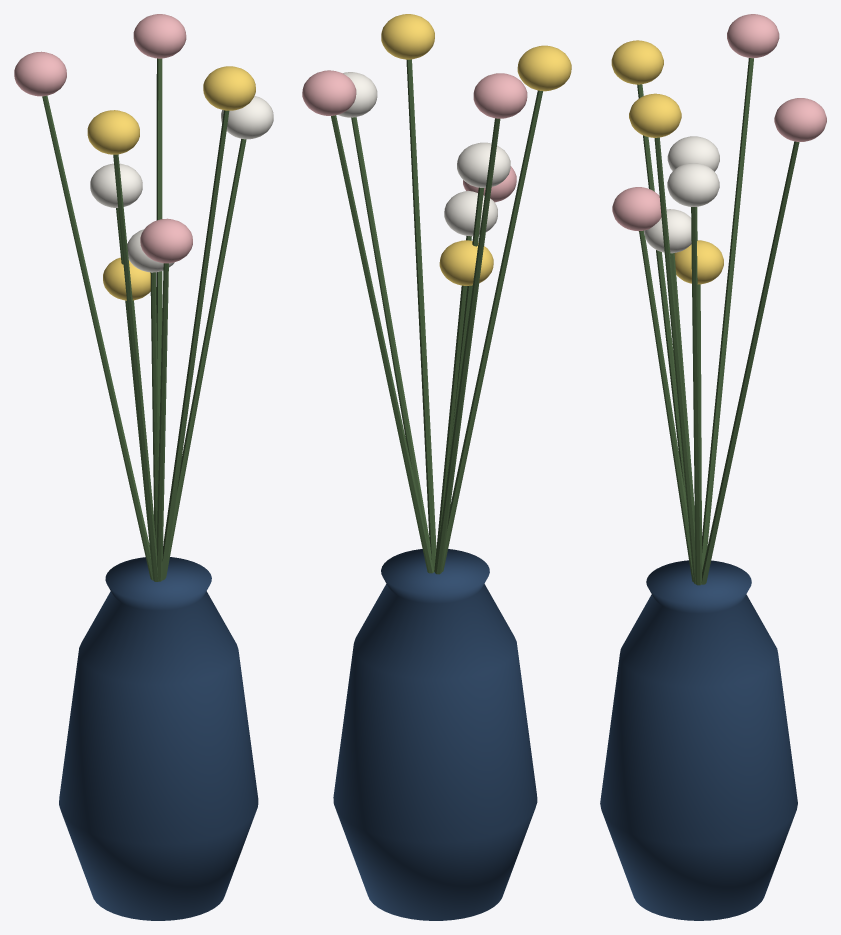
File: vaso_flores.glb
The picture shows the model from 3 angles, left to right: view 1: azimuth 30°, elevation 25°; view 2: azimuth 150°, elevation 25°; view 3: azimuth 270°, elevation 25°; orthographic projection. The views are drawn at different scales.
Parts seen in each view (by area): view 1: p; view 2: p; view 3: p.
Part boxes in pixels (x1=…): p: x1=14, y1=14, x2=273, y2=920; p: x1=302, y1=14, x2=571, y2=920; p: x1=600, y1=14, x2=826, y2=920.
Bounding box in the file's own units: 0.3857 × 1.39 × 0.3437.
